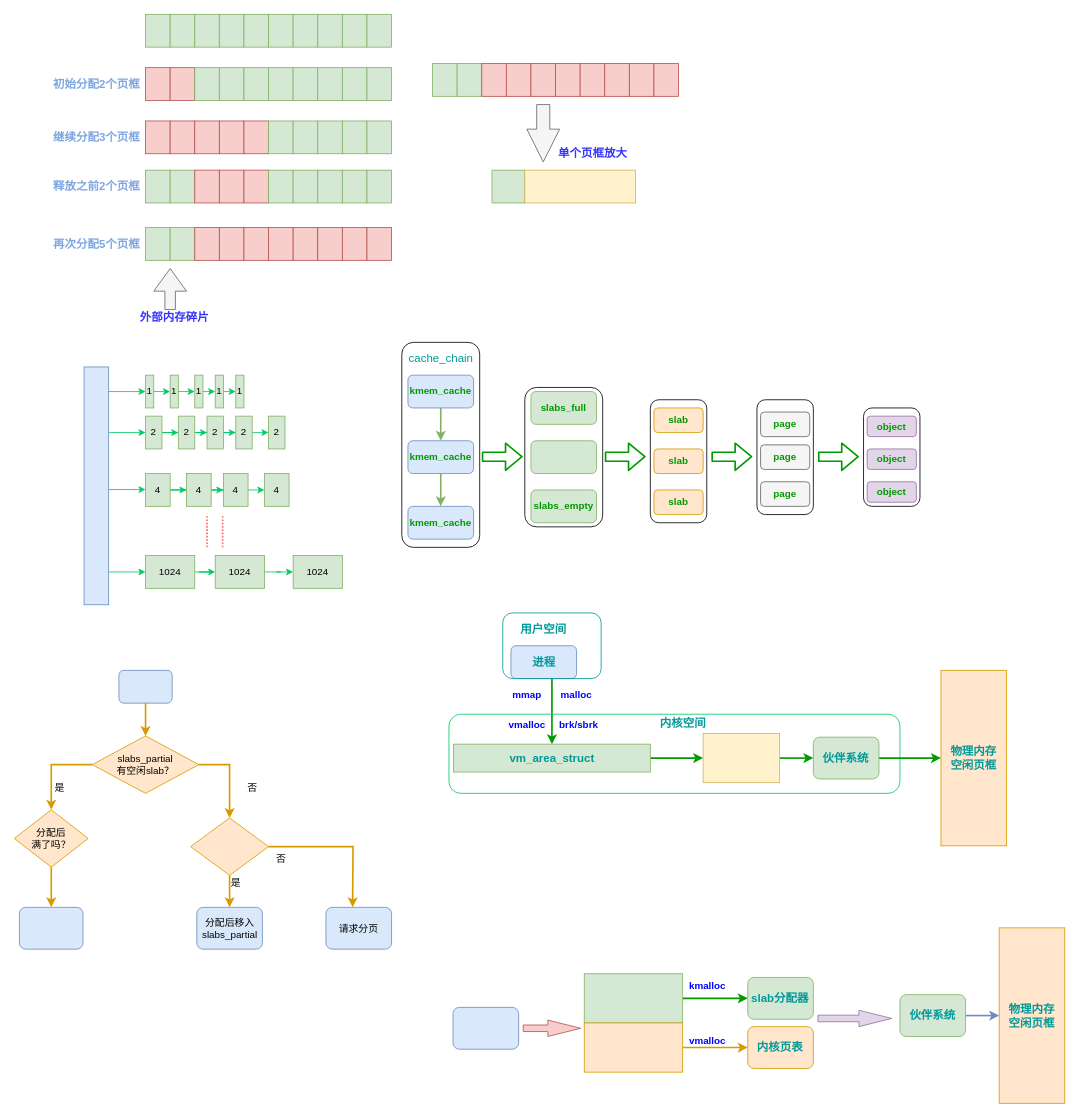
This 1079x1118 diagram has some shape labels left out. The box of each missing label's shape, as (x1, y1, x2, y2) in pixels:
slabs_empty 有空闲slab？: (190, 817, 269, 875)
slabs_partial: (530, 440, 597, 474)
start: (118, 670, 172, 703)
内核程序: (452, 1007, 519, 1049)
内部碎片: (491, 169, 525, 203)
分配后移入slabs_full: (19, 907, 83, 949)
动态内存映射区: (583, 1022, 683, 1072)
实际使用: (524, 169, 636, 203)
直接映射区: (583, 973, 683, 1023)
进程页表: (702, 733, 779, 783)
